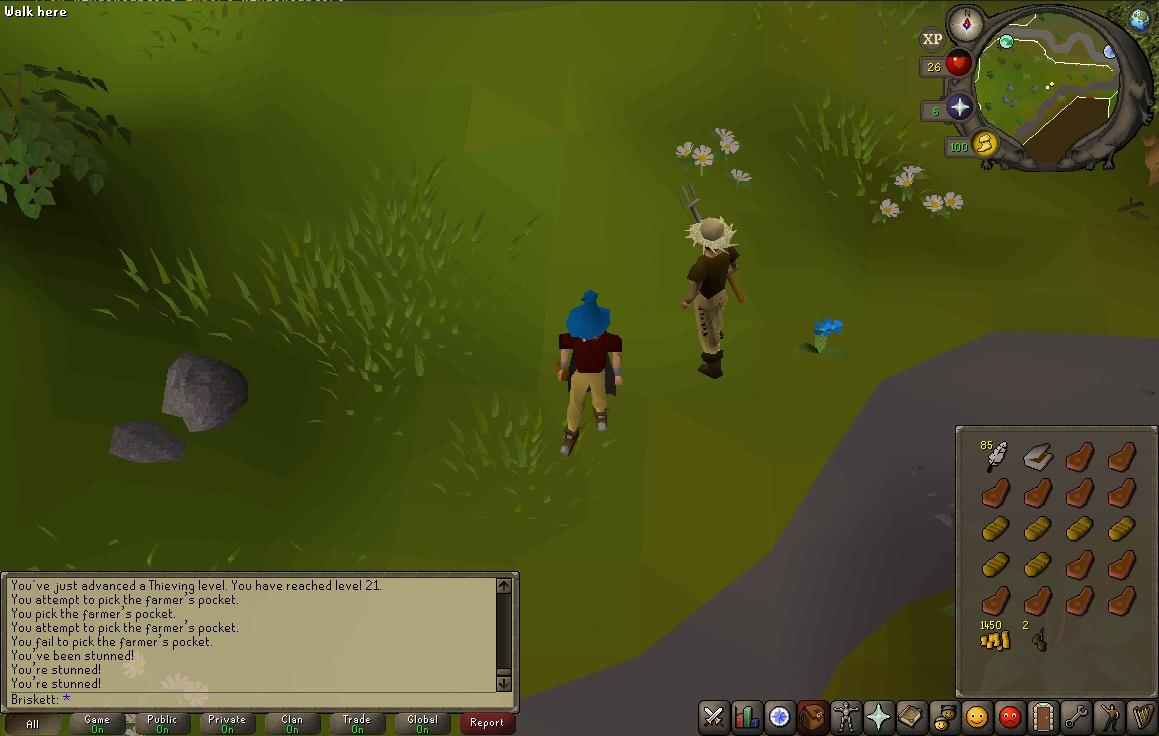Farmer: (680, 217, 747, 380)
